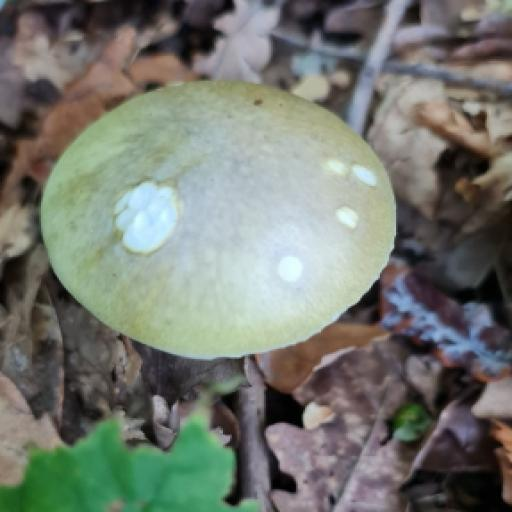mushroom: (42, 81, 396, 358)
